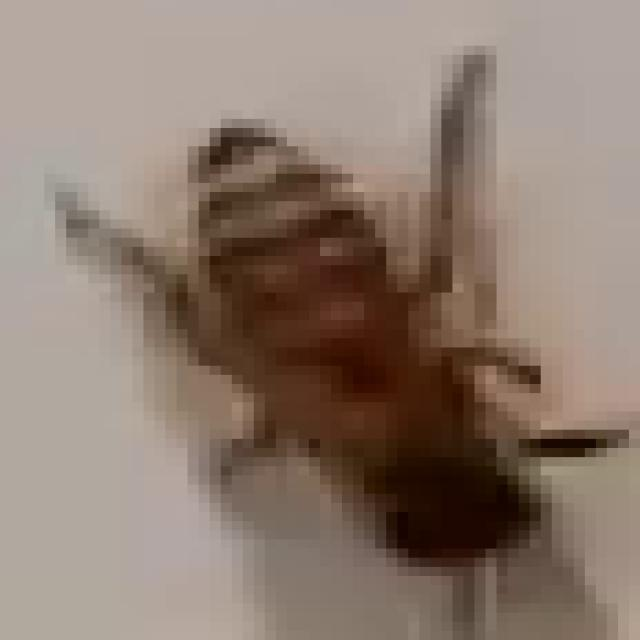honeybee: (52, 65, 554, 547)
